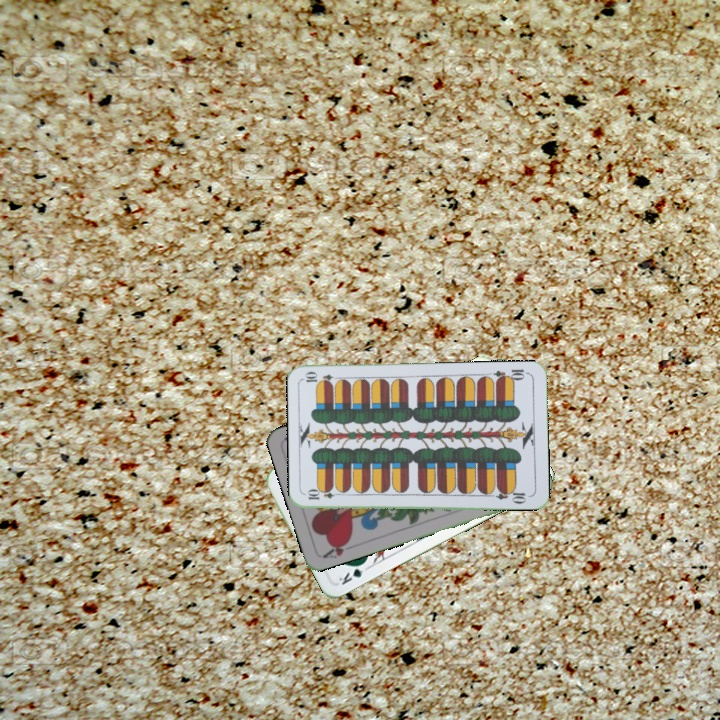E10: (490, 365, 531, 384), (303, 488, 344, 502)
GK: (334, 558, 369, 588)
HA: (319, 535, 358, 561)
